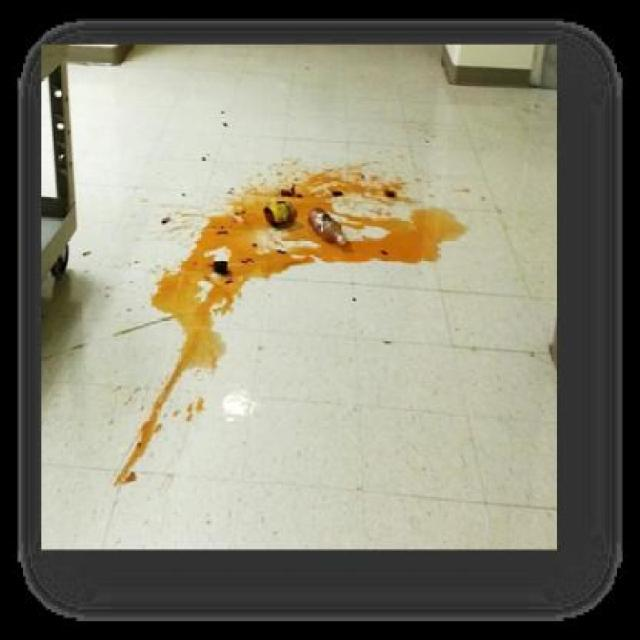spillage: (101, 161, 470, 526)
